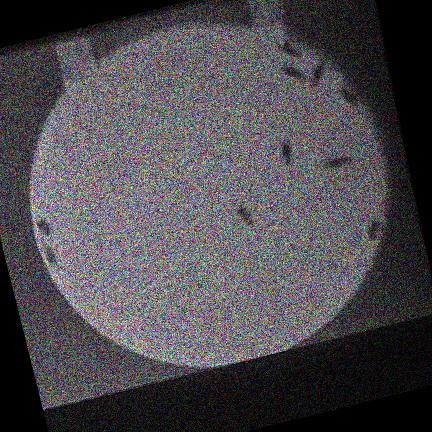fly: (281, 63, 309, 82), (277, 41, 301, 58), (340, 86, 359, 107), (312, 62, 326, 87), (322, 156, 351, 168), (44, 245, 59, 267), (281, 138, 293, 165), (237, 207, 254, 226), (369, 218, 381, 240), (36, 220, 52, 235)
